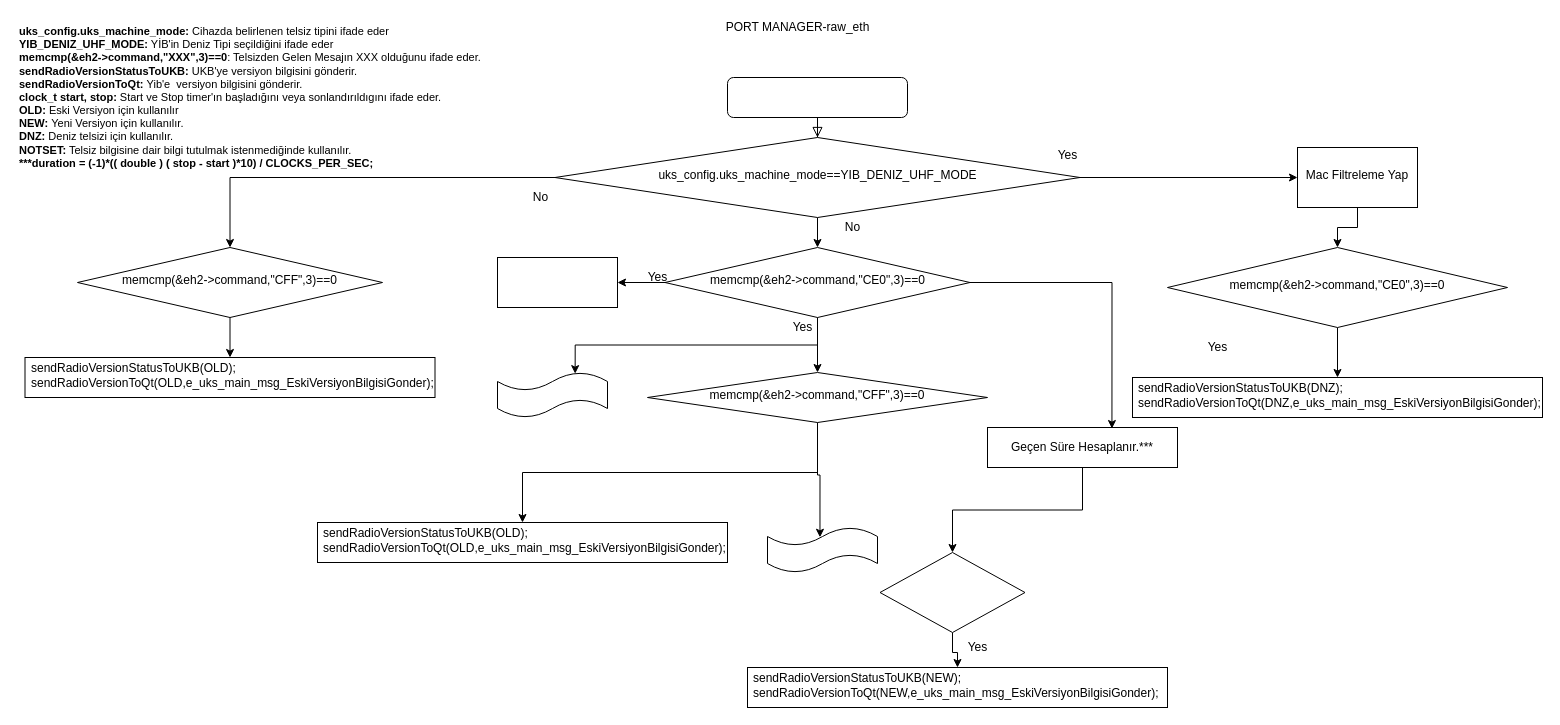
Image size: 1560x725. Some labels were removed from this diagram. Here are the shapes that lost their labels. From the top down, the centre of each, then its label:
At [817,97]: "yibRawEthernetHandler VUHF".
At [557,282]: "Telsiz Erişim Durumu Sor".
At [552,395]: "start = clock();".
At [822,549]: "stop = clock();".
At [952,592]: "duration>=11".
